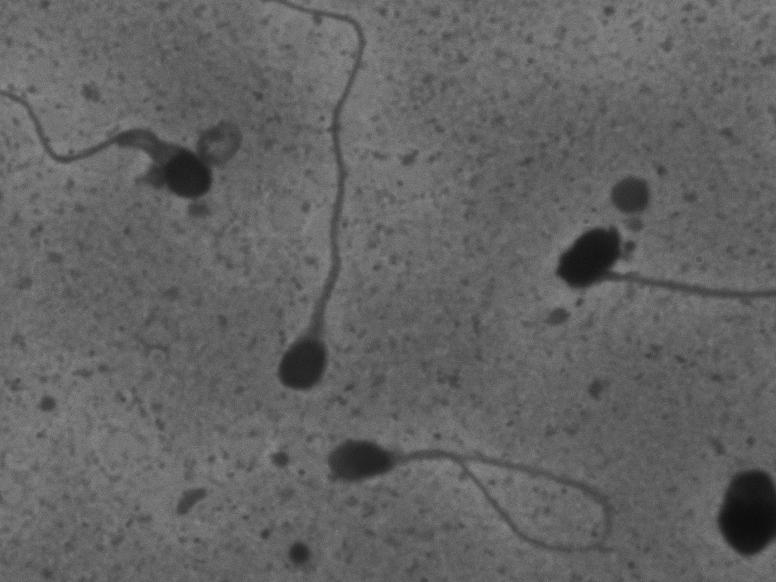Abnormal: (262, 4, 392, 406), (314, 426, 640, 559), (12, 51, 221, 256), (523, 208, 769, 343)
